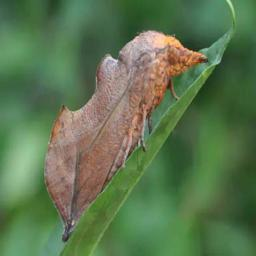Tobacco_budworm: (42, 29, 209, 242)
